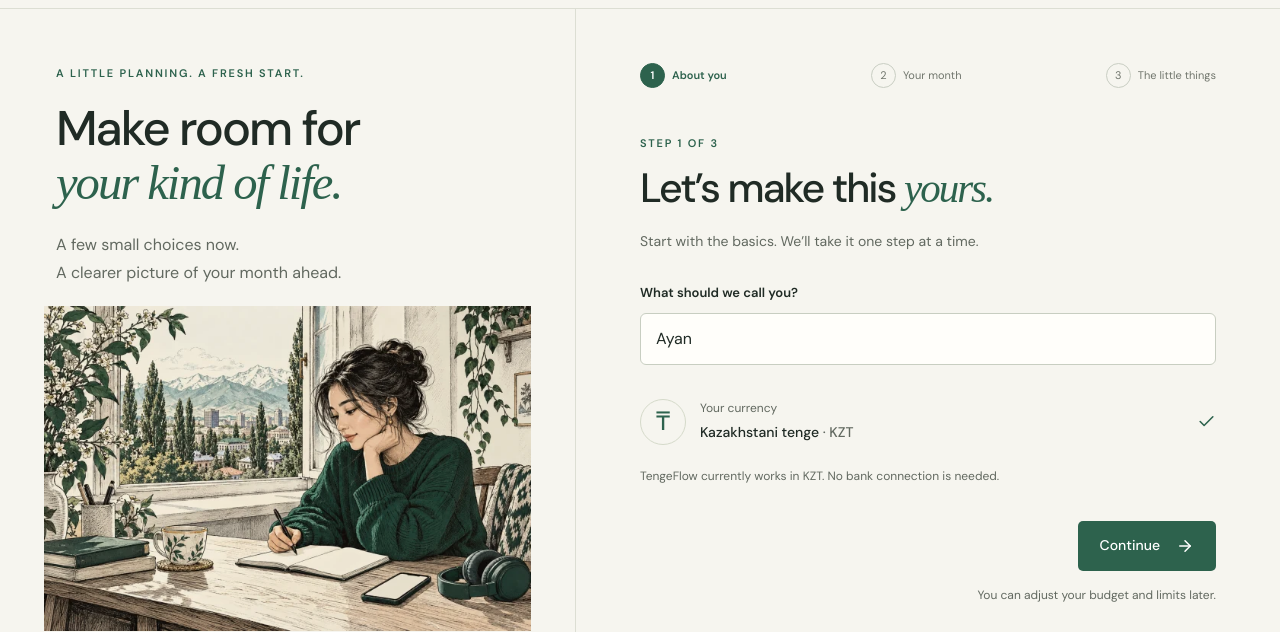
Test: starts category limits within the chosen budget before the user edits them
Click the button "Continue": coordinates (1147, 546) [1078,521,1216,571]
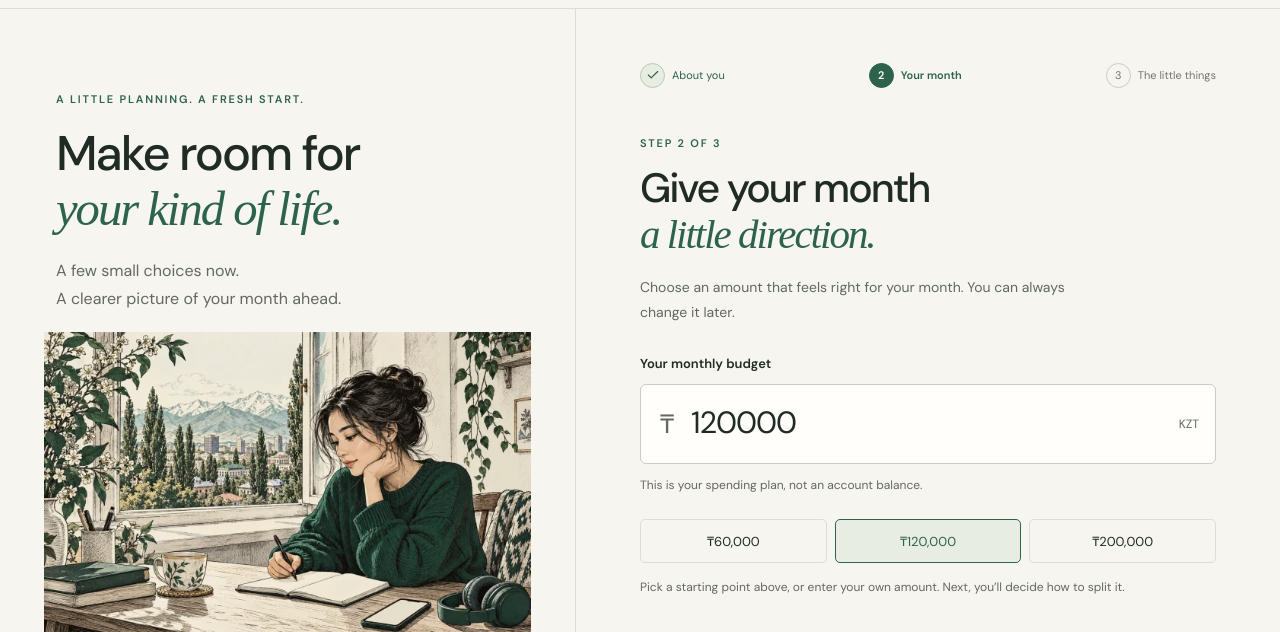
Click the button "₸60,000": coordinates (733, 541) [640,519,827,563]
(page scrolled)
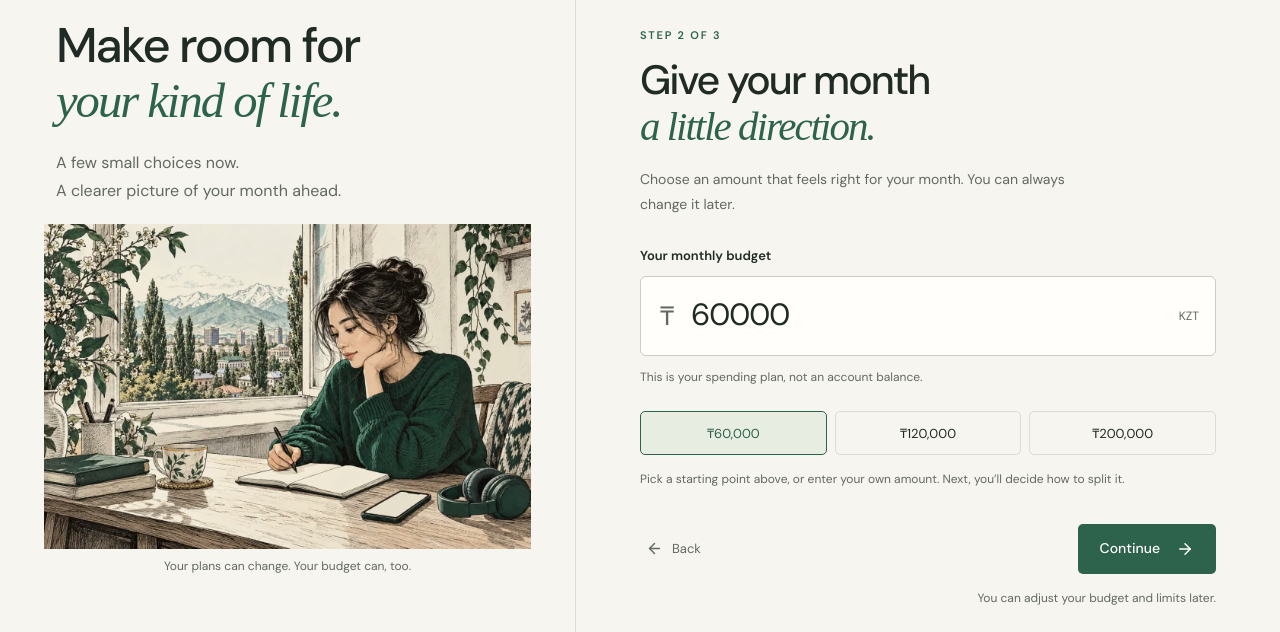
Click the button "Continue": coordinates (1147, 549) [1078,524,1216,574]
(page scrolled)
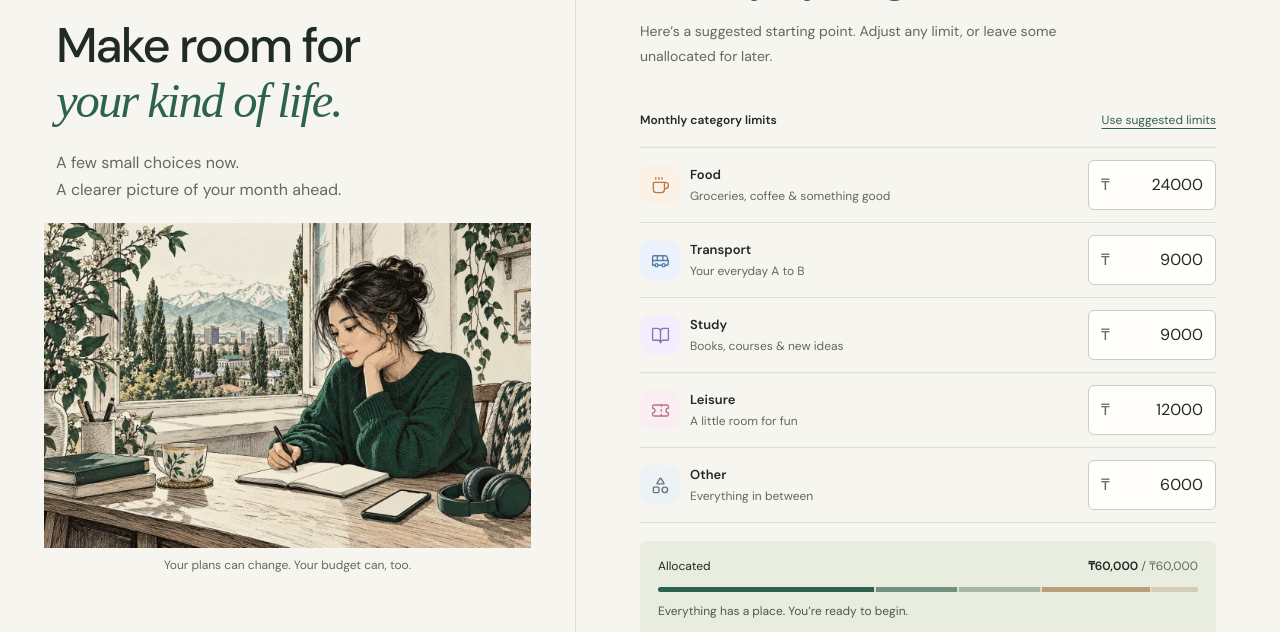
Expected: the field named "Food monthly limit" holds "24000", [1088,160,1216,210]
Expected: the text "Everything has a place. You’re ready to begin." is shown, [658,603,908,619]
